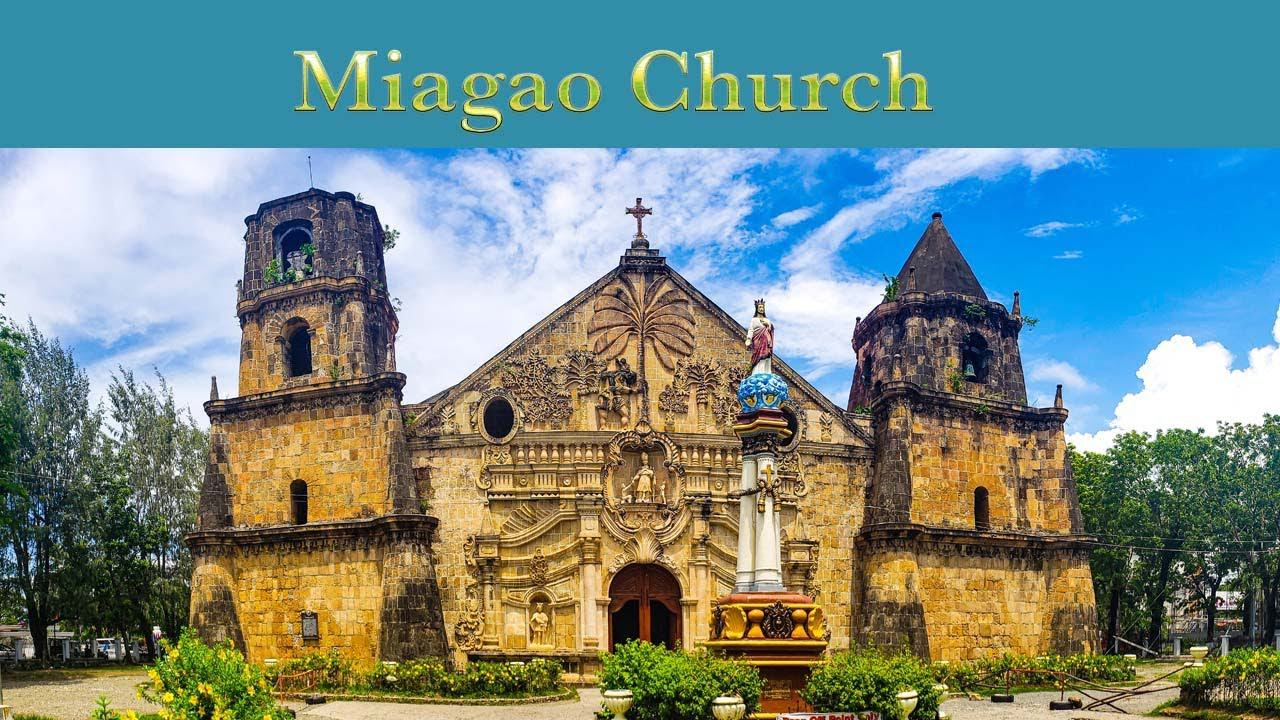Environmental Damage: (263, 251, 317, 283), (880, 275, 917, 318), (375, 283, 407, 320), (378, 223, 400, 258)
Miagao Church: (215, 169, 1097, 664)
